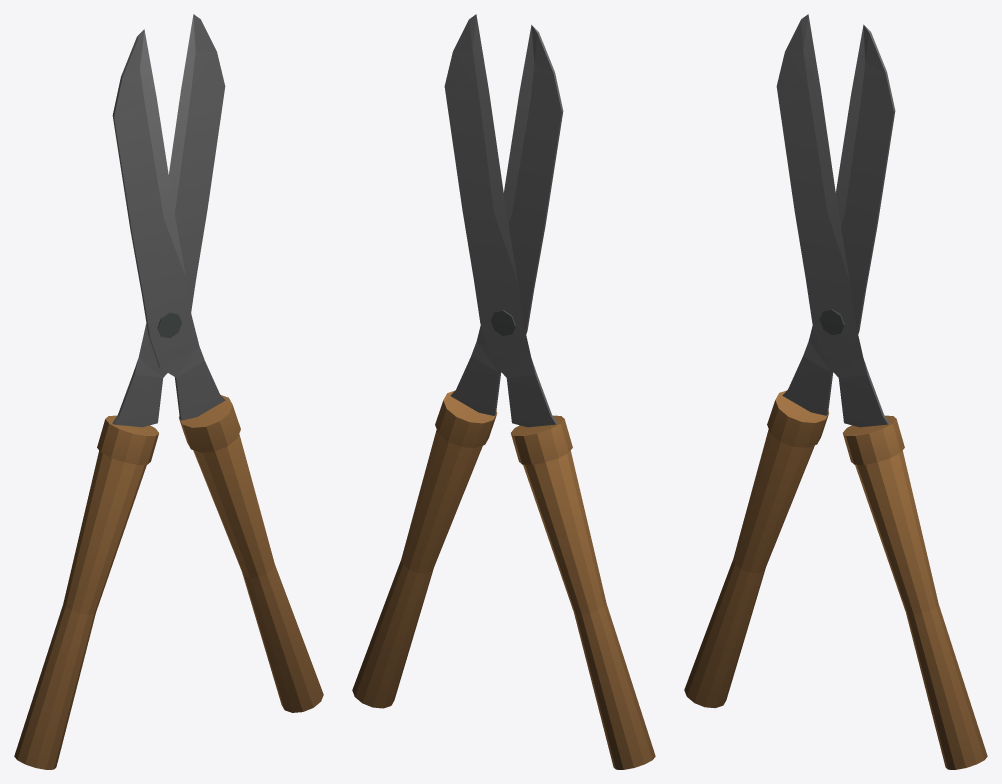
The model's file is Tool_Shear_01.obj.
3 renders of one model, left to right at view 1: azimuth 30°, elevation 25°; view 2: azimuth 150°, elevation 25°; view 3: azimuth 330°, elevation 25°, orthographic.
Visible parts, largest first — view 1: Tool_Shear_Right_01, Tool_Shear_Left_01; view 2: Tool_Shear_Left_01, Tool_Shear_Right_01; view 3: Tool_Shear_Right_01, Tool_Shear_Left_01.
Boxes of the visible parts, x1,y1,x2,y2 form: Tool_Shear_Right_01: (112,29,323,712); Tool_Shear_Left_01: (14,14,225,769); Tool_Shear_Left_01: (444,14,655,769); Tool_Shear_Right_01: (352,25,563,708); Tool_Shear_Right_01: (776,14,987,769); Tool_Shear_Left_01: (684,24,895,708).
Size of the model in its own units: 0.2288 by 0.5208 by 0.041.
1 material, 1 textured.
